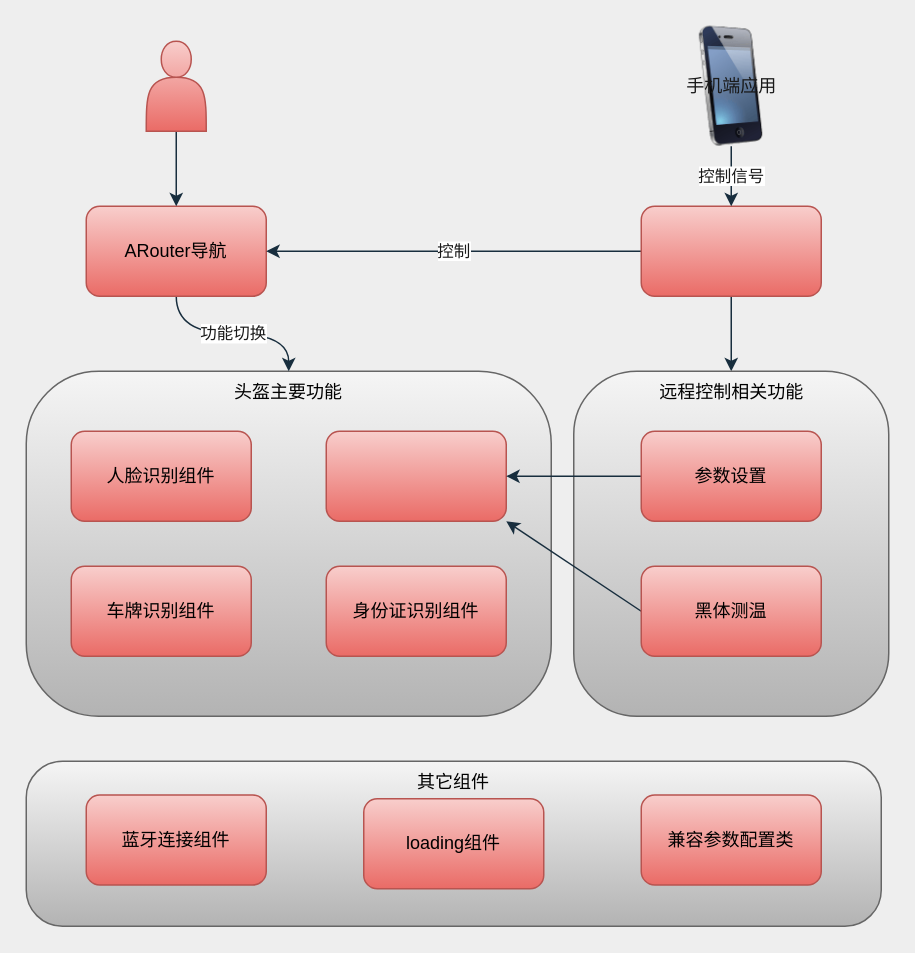
Some shapes in this 915 by 953 pixel diagram are drawn without their labels. The shapes that lost their labels are listed below. From the top down, each one's centre as x and y in pixels, then its label:
At pixel 175 85: "头盔".
At pixel 730 250: "蓝牙服务模块".
At pixel 415 475: "红外测温组件".
